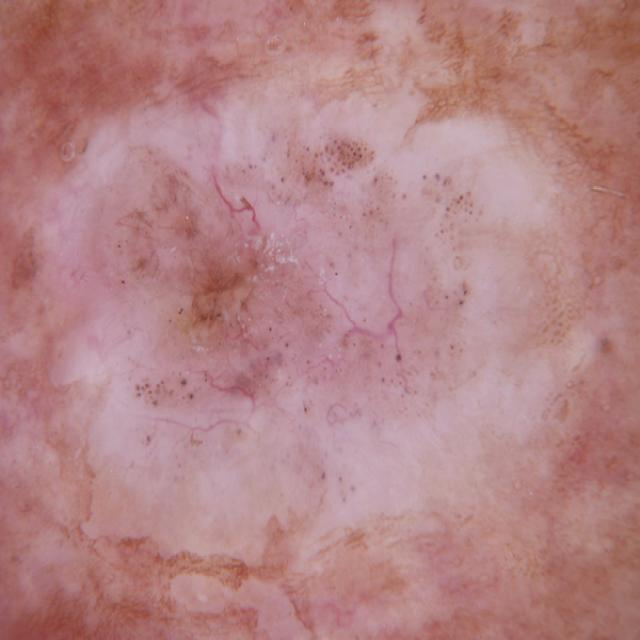Skin-Cancer Basal cell carcinoma: (2, 13, 639, 640)
